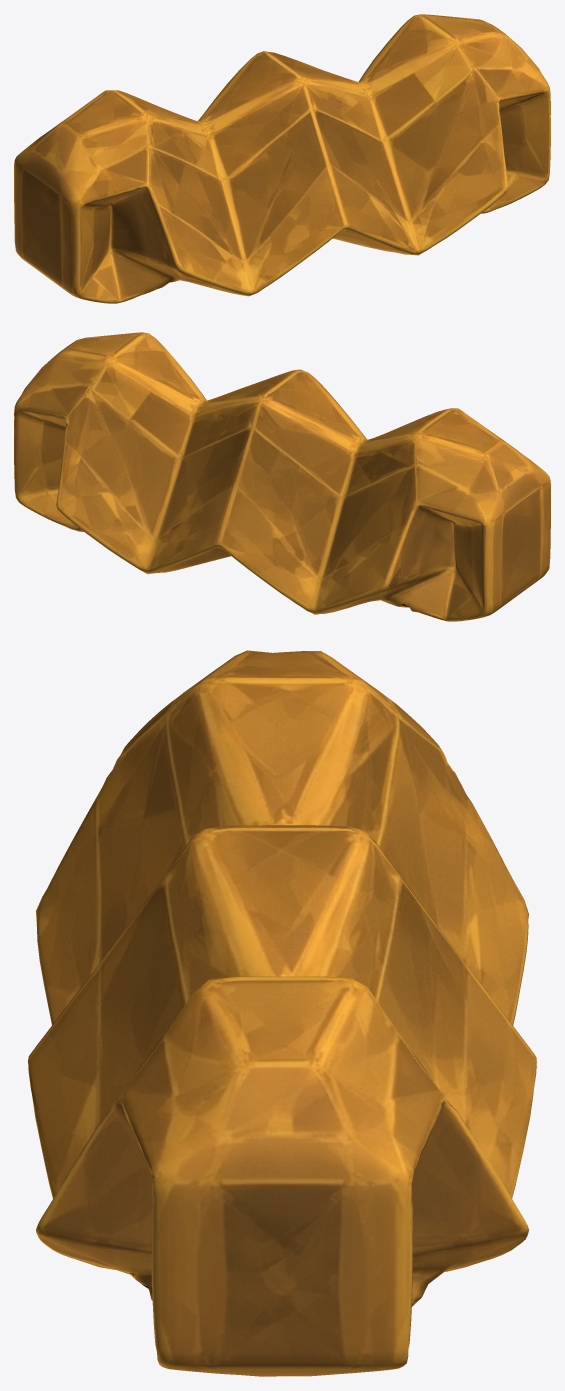
File: bonus_snare_LOW_5k.fbx
3 views of the same model, one above another, from view 1: azimuth 30°, elevation 25°; view 2: azimuth 150°, elevation 25°; view 3: azimuth 270°, elevation 25° (orthographic). The views are drawn at different scales.
Visible parts, largest first — view 1: HIGH; view 2: HIGH; view 3: HIGH.
Boxes of the visible parts, bbox=[...] form: HIGH: bbox=[14, 14, 550, 303]; HIGH: bbox=[14, 332, 550, 621]; HIGH: bbox=[28, 650, 536, 1376].
Bounding box in the file's own units: 1.9 × 0.6764 × 0.8696.
